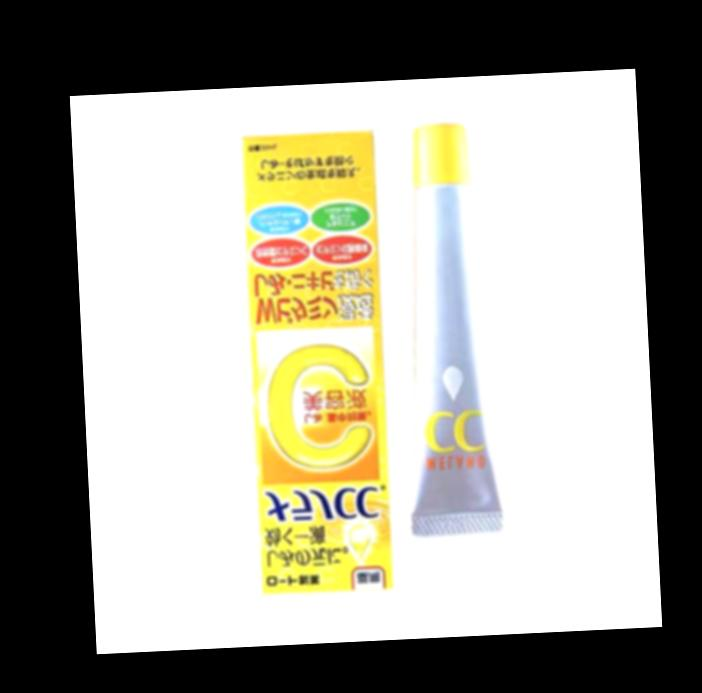cosmetic: (387, 121, 503, 537)
